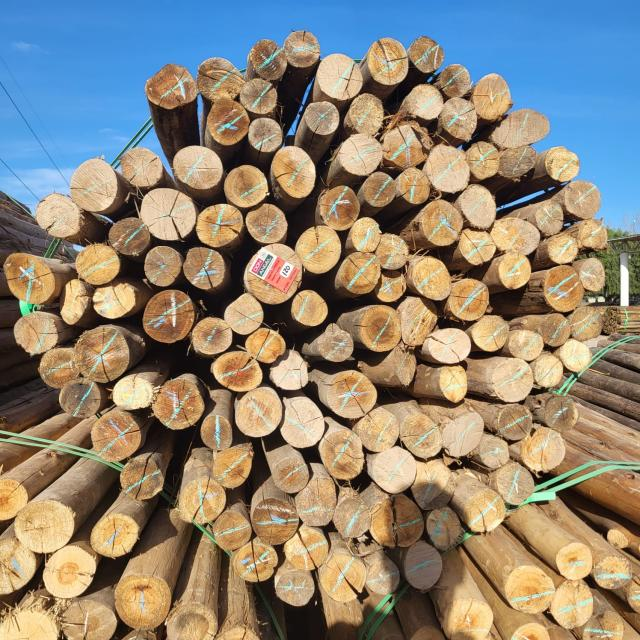package: (0, 24, 612, 598), (0, 452, 261, 640), (360, 514, 640, 640)
